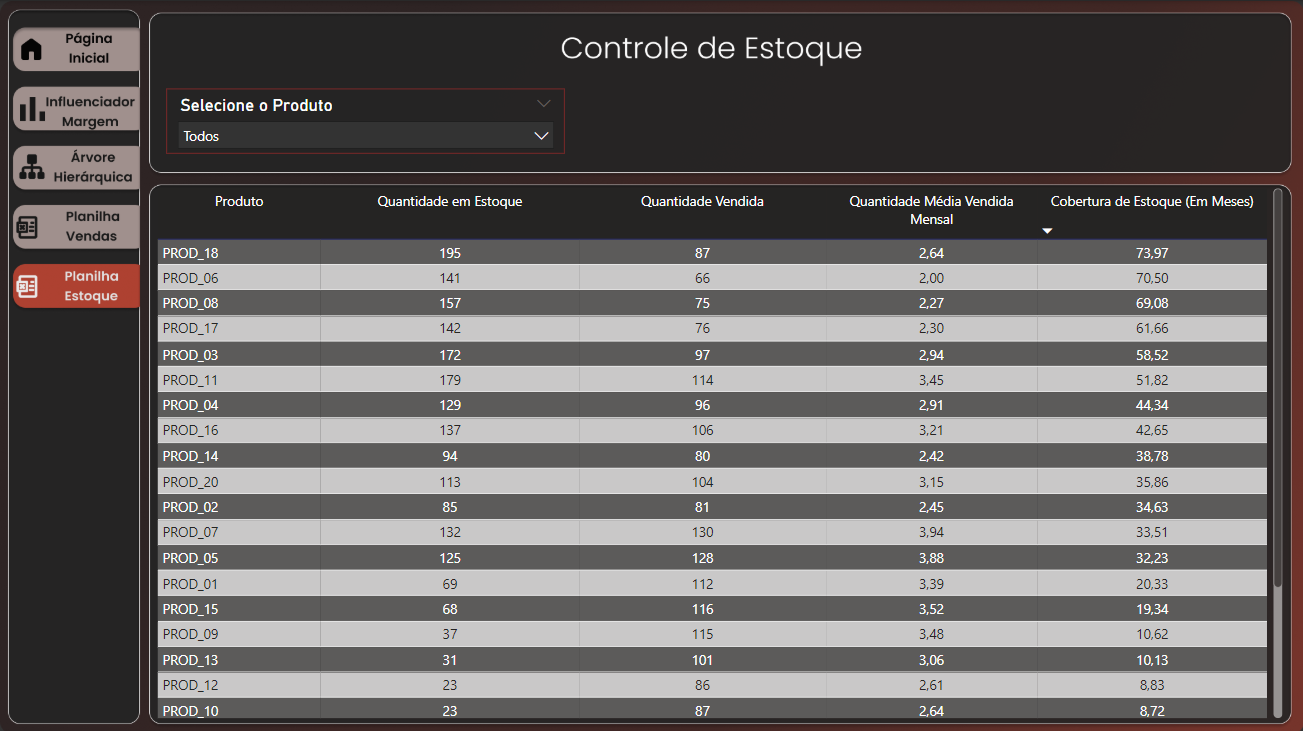

The page's visual inventory and layout, read from the dashboard file:
{"tool":"powerbi","page":{"name":"Controle de Estoque","canvas":[1280,720],"ordinal":4},"visuals":[{"type":"tableEx","fields":{"Values":["dEstoque.Produto","@Medidas.QuantidadeEmEstoque","@Medidas.QuantidadeVendida","@Medidas.MediaVendasPorMêsProduto","@Medidas.CoberturaEstoque"]},"box":[148.5,179.1,1115.3,530.1],"z":0},{"type":"slicer","fields":{"Values":["dEstoque.Produto"]},"box":[162.9,85.7,391.4,64.3],"z":1000},{"type":"pageNavigator","box":[11.1,140,127.8,46.7],"z":2000},{"type":"pageNavigator","box":[10.8,25,127.5,45.8],"z":3000},{"type":"pageNavigator","box":[11.1,82.2,127.8,46.7],"z":4000},{"type":"pageNavigator","box":[10.6,198.1,128.1,47.5],"z":5000}]}

Visuals, with their boxes on the page's 1280x720 design canvas (x1, y1, x2, y2). These are canvas units, not pixel positions in the 1303x731 screenshot, which may show the page scaled, cropped or inside an application window:
tableEx - dEstoque.Produto x @Medidas.QuantidadeEmEstoque: (left=148, top=179, right=1264, bottom=709)
slicer - dEstoque.Produto: (left=163, top=86, right=554, bottom=150)
pageNavigator: (left=11, top=140, right=139, bottom=187)
pageNavigator: (left=11, top=25, right=138, bottom=71)
pageNavigator: (left=11, top=82, right=139, bottom=129)
pageNavigator: (left=11, top=198, right=139, bottom=246)
